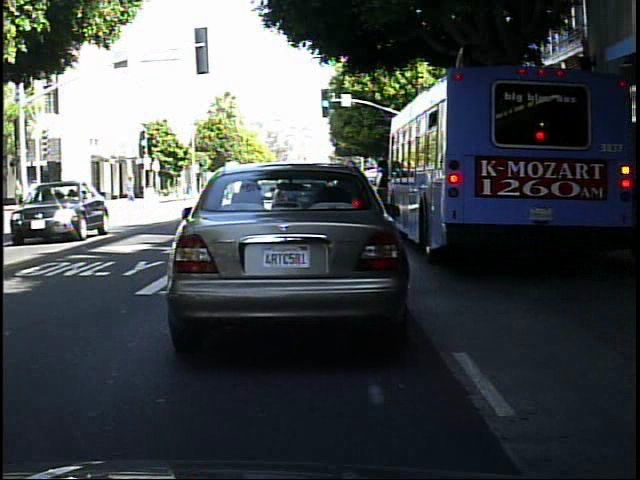person: (71, 174, 90, 213), (58, 174, 75, 214), (14, 175, 30, 217), (29, 174, 44, 215), (123, 171, 140, 206), (48, 179, 64, 215), (12, 177, 29, 210)
